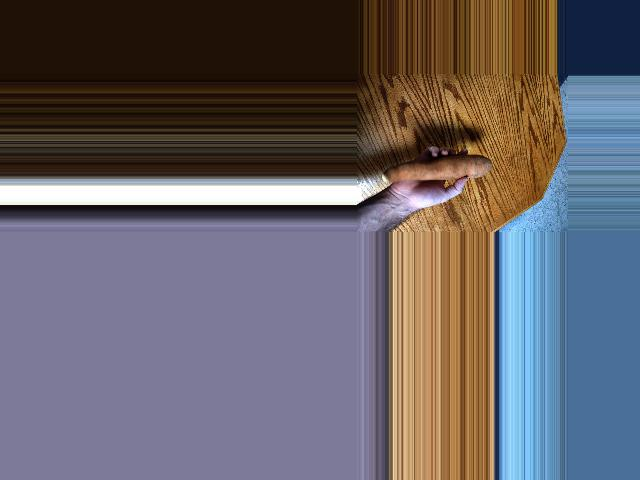sweet_potato: (386, 147, 496, 180)
